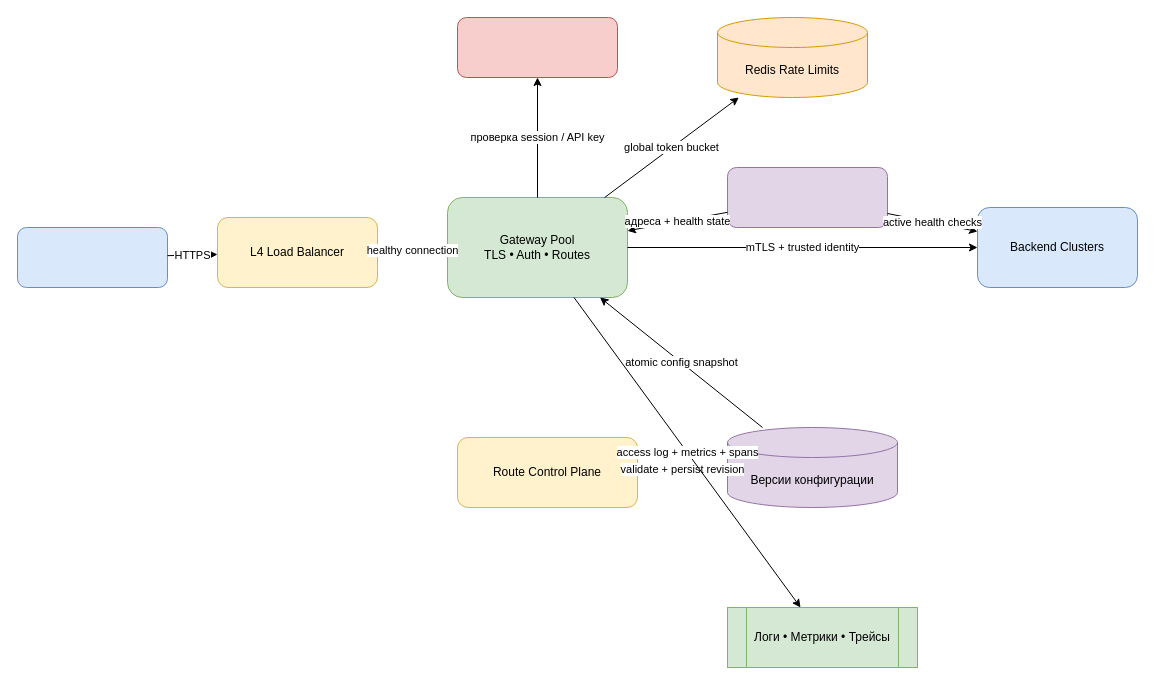
Image size: 1155x685. Some labels were removed from this diagram. Here are the shapes that lost their labels. From the top down, the centre of each, then its label:
the point at 537,47: Identity Service
the point at 807,197: Service Discovery
the point at 92,257: Интернет-клиенты
